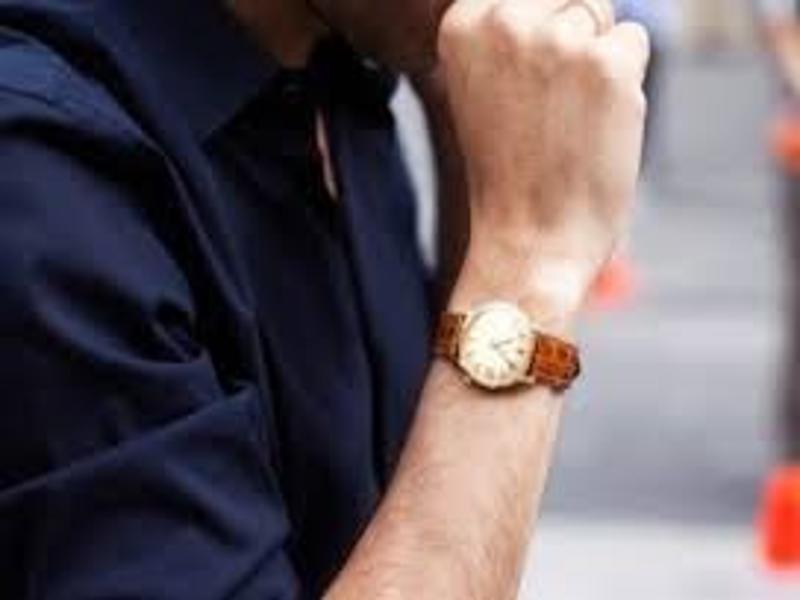watch: (426, 297, 581, 400)
